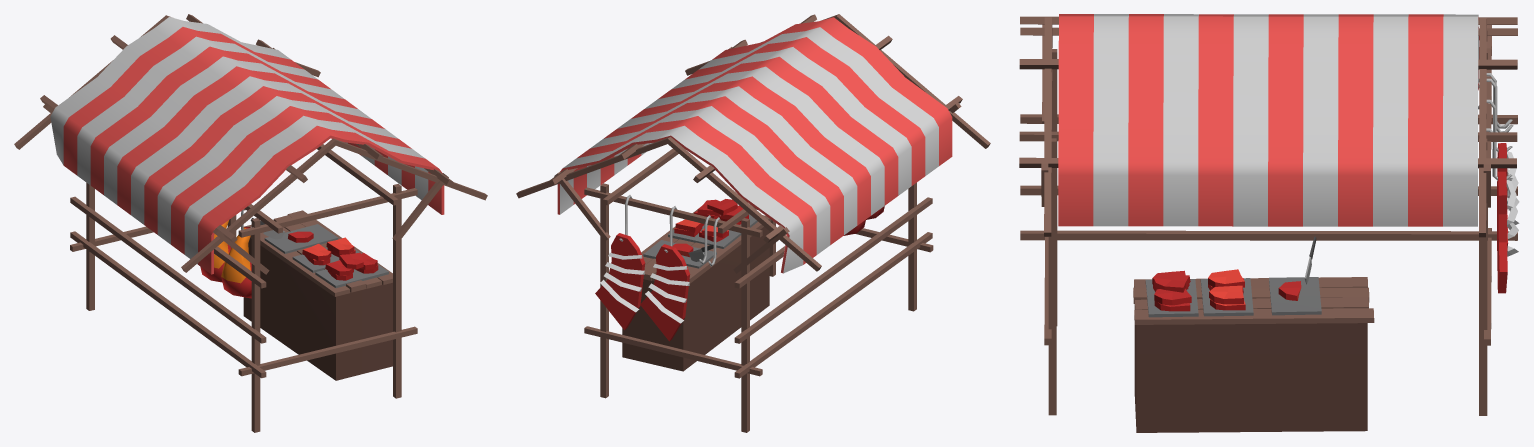
File: stall_001.glb
The picture shows the model from 3 angles, left to right: view 1: azimuth 30°, elevation 25°; view 2: azimuth 150°, elevation 25°; view 3: azimuth 270°, elevation 25°; orthographic projection. The views are drawn at different scales.
Visible parts, largest first — view 1: stall_001; view 2: stall_001; view 3: stall_001.
Boxes of the visible parts, x1,y1,x2,y2 form: stall_001: (14, 14, 487, 432); stall_001: (516, 14, 990, 432); stall_001: (1019, 14, 1519, 432).
Size of the model in its own units: 2.98 by 2.57 by 3.27.
1 material, 1 textured.
